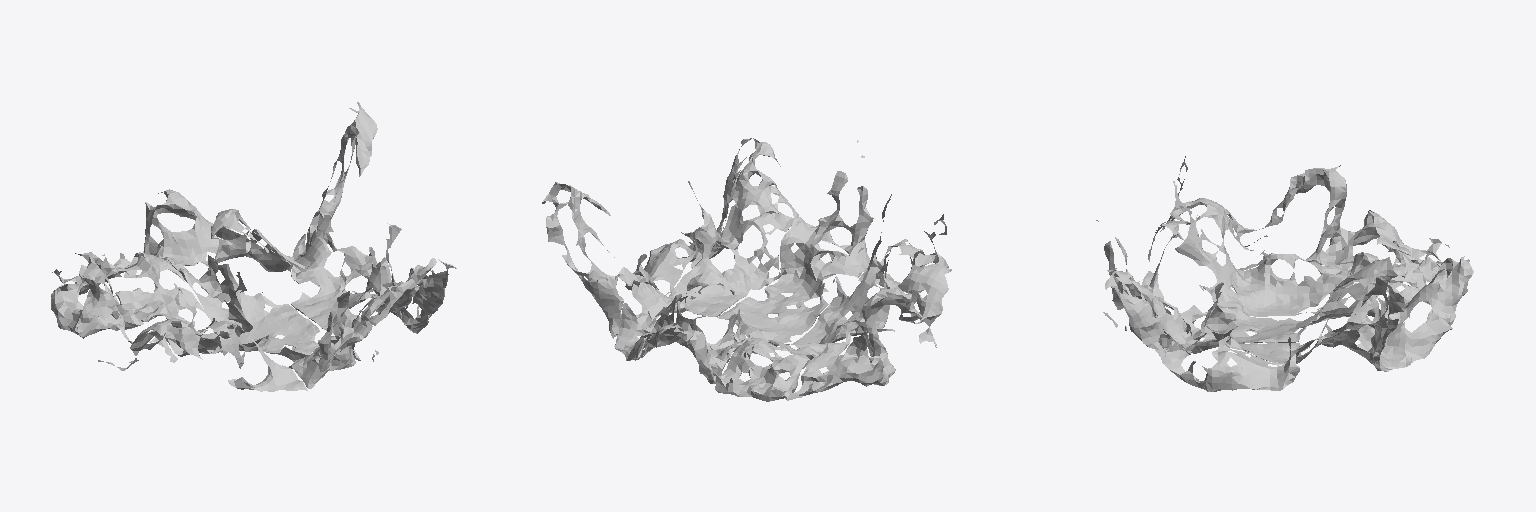
Rendered from UMesh_PM3D_Sphere3D1.obj.
3 views of the same model, side by side, from view 1: azimuth 30°, elevation 25°; view 2: azimuth 150°, elevation 25°; view 3: azimuth 270°, elevation 25° (orthographic).
Visible parts, largest first — view 1: Group5037, Group57103, Group12710, Group40851, Group20042; view 2: Group5037, Group57103, Group12710, Group40851, Group20042; view 3: Group20042, Group12710, Group57103, Group5037, Group40851.
Boxes of the visible parts, <box> form: Group5037: <box>144,189,374,388</box>; Group57103: <box>215,226,436,360</box>; Group12710: <box>79,251,307,391</box>; Group40851: <box>51,252,219,370</box>; Group20042: <box>306,102,456,333</box>; Group5037: <box>641,140,873,383</box>; Group57103: <box>614,138,798,360</box>; Group12710: <box>715,194,924,401</box>; Group40851: <box>785,214,951,400</box>; Group20042: <box>542,138,751,338</box>; Group20042: <box>1105,257,1407,391</box>; Group12710: <box>1141,181,1446,316</box>; Group57103: <box>1107,268,1452,369</box>; Group5037: <box>1096,220,1473,348</box>; Group40851: <box>1155,156,1449,270</box>.
Size of the model in its own units: 2.46 by 1.08 by 2.51.